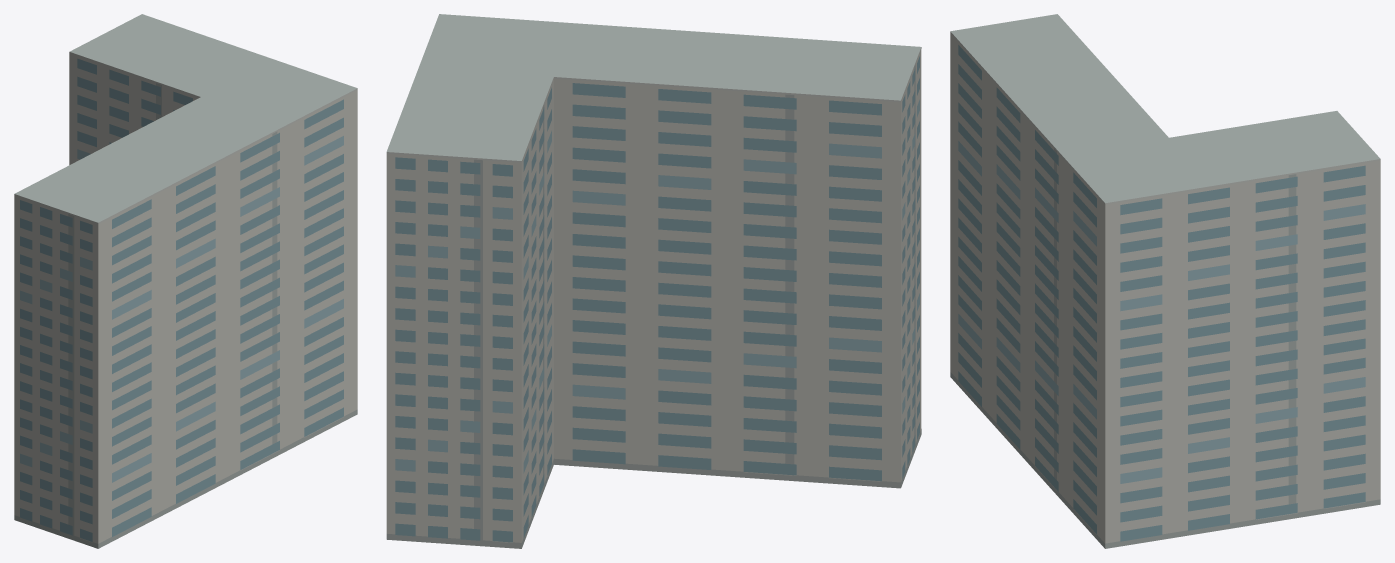
The model's file is residential-8521840d-5bd2-462d-9285-b0d05d0fa7e8.glb.
3 views of the same model, side by side, from view 1: azimuth 30°, elevation 25°; view 2: azimuth 150°, elevation 25°; view 3: azimuth 270°, elevation 25° (orthographic). The views are drawn at different scales.
Parts seen in each view (by area): view 1: residential-8521840d-5bd2-462d-9285-b0d05d0fa7e8.tmp; view 2: residential-8521840d-5bd2-462d-9285-b0d05d0fa7e8.tmp; view 3: residential-8521840d-5bd2-462d-9285-b0d05d0fa7e8.tmp.
Part boxes in pixels (box(x1,y1,x2,y2)): residential-8521840d-5bd2-462d-9285-b0d05d0fa7e8.tmp: box(14, 14, 357, 548); residential-8521840d-5bd2-462d-9285-b0d05d0fa7e8.tmp: box(386, 14, 921, 548); residential-8521840d-5bd2-462d-9285-b0d05d0fa7e8.tmp: box(950, 14, 1380, 548).
Bounding box in the file's own units: 64.58 × 55 × 62.06.
